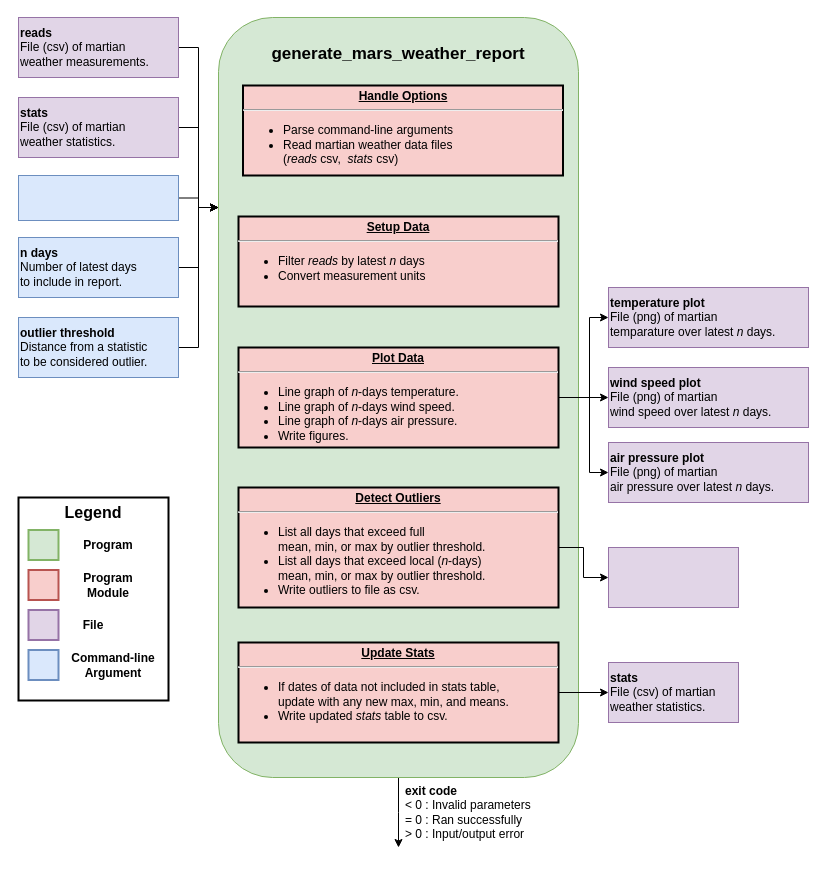
Image size: 826x873. Some labels were removed from this diagram. Each missing label, with the centre of its shape:
outliers File (csv) of outlier measurements.: the point at 673,577
units To print measurements.: the point at 98,197
